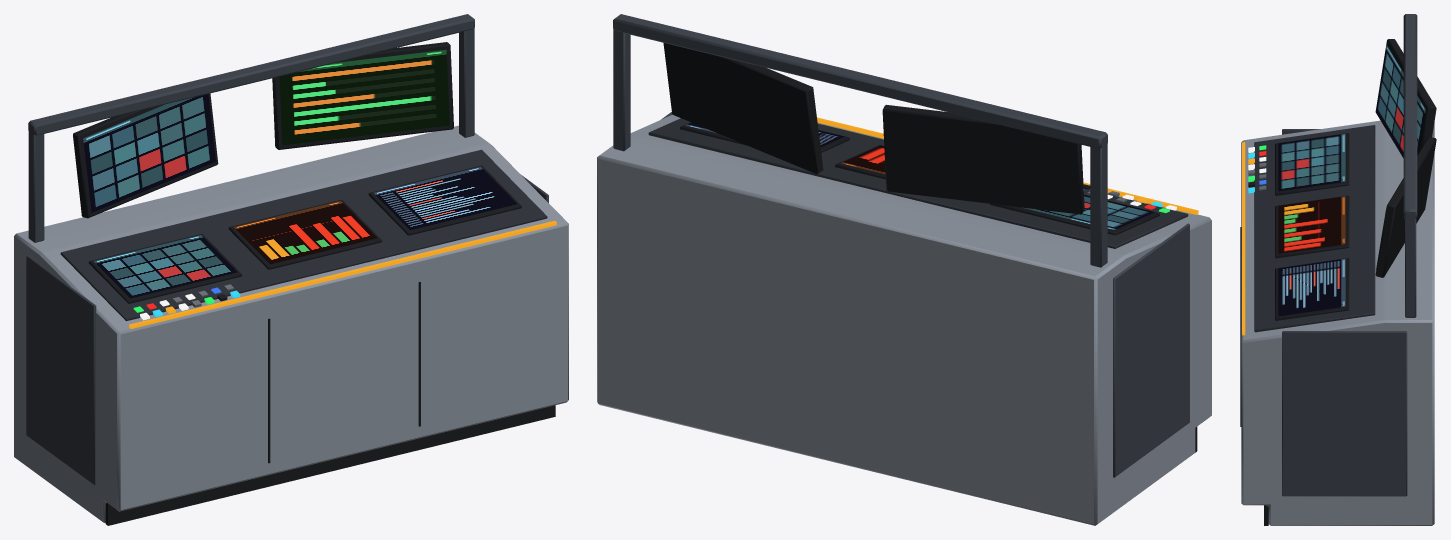
The model's file is console_ops.glb.
3 views of the same model, side by side, from view 1: azimuth 30°, elevation 25°; view 2: azimuth 150°, elevation 25°; view 3: azimuth 270°, elevation 25° (orthographic). The views are drawn at different scales.
Visible parts, largest first — view 1: console_ops; view 2: console_ops; view 3: console_ops.
Boxes of the visible parts, bbox=[...] form: console_ops: bbox=[14, 14, 568, 525]; console_ops: bbox=[597, 14, 1211, 525]; console_ops: bbox=[1240, 14, 1436, 525].
Size of the model in its own units: 2.12 by 1.52 by 0.8635.
Materials: 16 (4 with a texture image).
